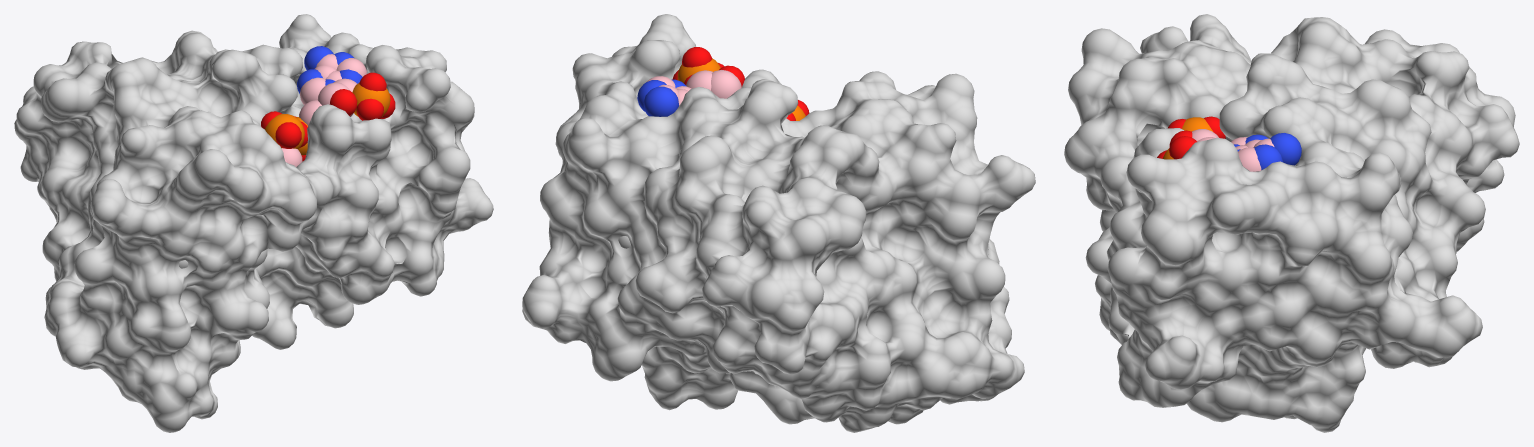
File: naden.dae
3 views of the same model, side by side, from view 1: azimuth 30°, elevation 25°; view 2: azimuth 150°, elevation 25°; view 3: azimuth 270°, elevation 25° (orthographic). The views are drawn at different scales.
Parts seen in each view (by area): view 1: subnode_48, subnode_25, subnode_44, subnode_23, subnode_47, subnode_8, subnode_13; view 2: subnode_48, subnode_17, subnode_7, subnode_46; view 3: subnode_48, subnode_17, subnode_18.
Boxes of the visible parts, <box> form: subnode_48: <box>14,14,493,432</box>; subnode_25: <box>275,122,301,148</box>; subnode_44: <box>352,82,390,116</box>; subnode_23: <box>264,114,304,148</box>; subnode_47: <box>356,98,383,120</box>; subnode_8: <box>329,89,357,115</box>; subnode_13: <box>300,77,325,105</box>; subnode_48: <box>522,14,1035,432</box>; subnode_17: <box>643,86,679,116</box>; subnode_7: <box>711,70,741,98</box>; subnode_46: <box>682,47,712,67</box>; subnode_48: <box>1064,14,1519,432</box>; subnode_17: <box>1270,133,1301,165</box>; subnode_18: <box>1254,144,1282,169</box>.
Bounding box in the file's own units: 47.86 × 34.18 × 40.02.
